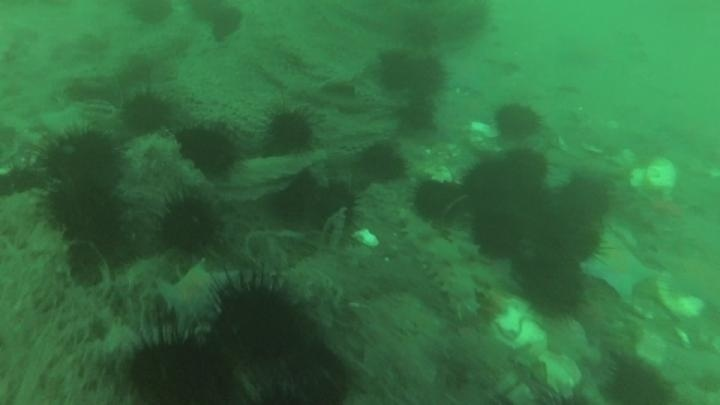echinus: (210, 280, 305, 365), (125, 333, 236, 404), (240, 340, 353, 405), (39, 127, 124, 194), (44, 180, 126, 248), (516, 247, 586, 317), (156, 193, 222, 256), (538, 202, 606, 261), (601, 354, 676, 405), (270, 176, 337, 231), (175, 123, 240, 178), (460, 157, 526, 211), (304, 180, 361, 234), (554, 174, 613, 225), (470, 208, 524, 259), (411, 177, 468, 225), (263, 106, 318, 154), (435, 2, 492, 45), (120, 90, 173, 136), (356, 141, 408, 184), (499, 147, 550, 190), (492, 101, 543, 142), (1, 161, 52, 199), (375, 48, 418, 93), (403, 53, 448, 96), (395, 95, 438, 135), (396, 13, 441, 51), (207, 7, 245, 44), (125, 1, 176, 28), (186, 1, 228, 25)
holothurian: (398, 210, 486, 320), (120, 130, 184, 183), (115, 250, 191, 292)
starfish: (156, 259, 230, 331), (582, 240, 657, 302)
